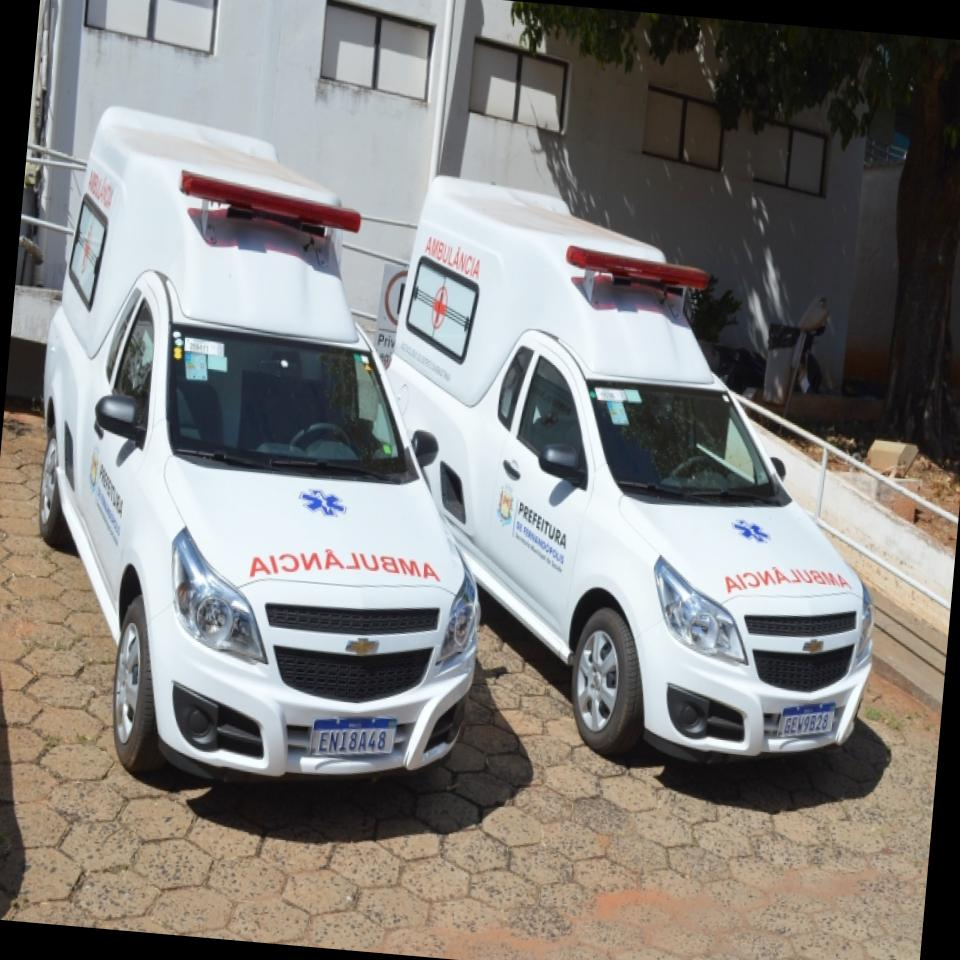bombeiro: (6, 97, 526, 813), (355, 170, 915, 783)
